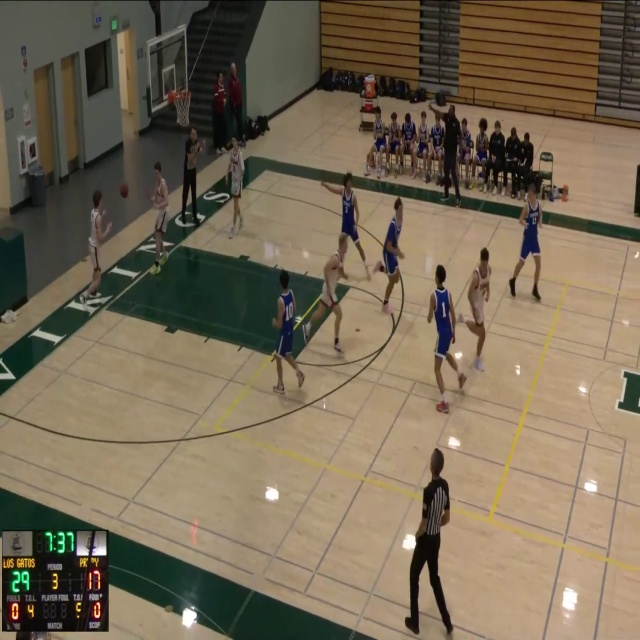Basketball: (120, 184, 128, 198)
